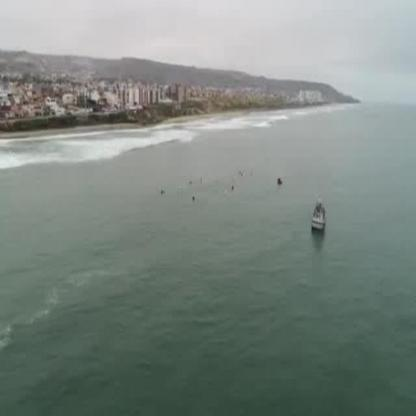Boat: (307, 203, 331, 234)
